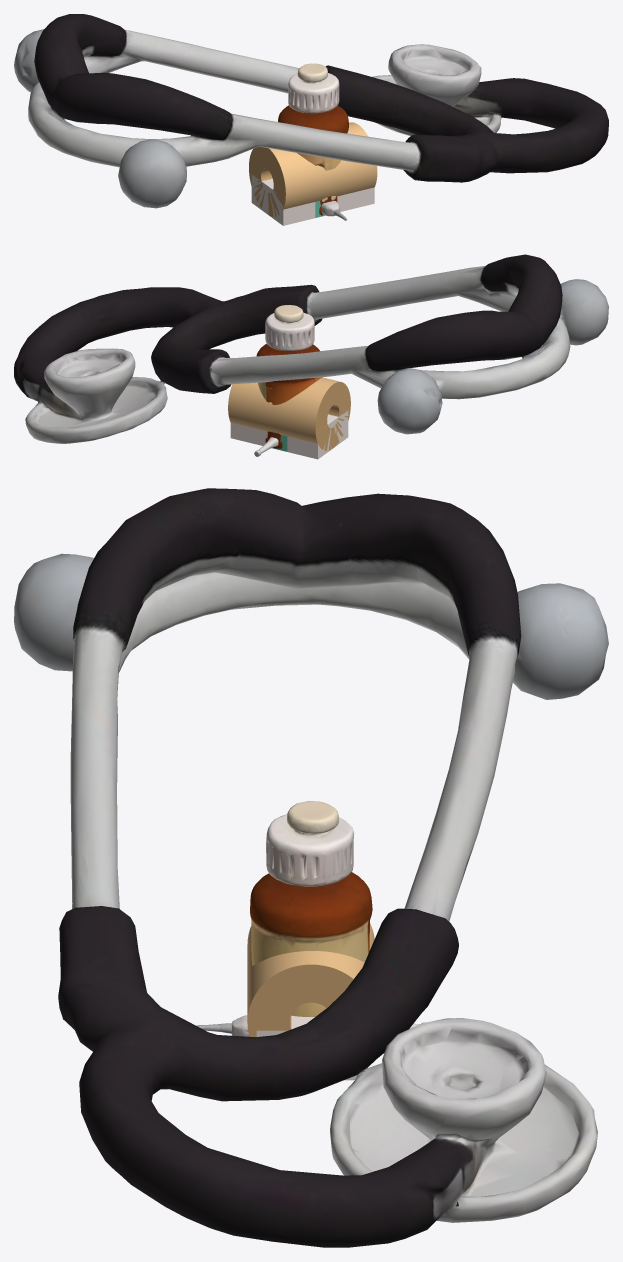
Rendered from pharmacie.glb.
3 renders of one model, top to bottom at view 1: azimuth 30°, elevation 25°; view 2: azimuth 150°, elevation 25°; view 3: azimuth 270°, elevation 25°, orthographic. The views are drawn at different scales.
Parts seen in each view (by area): view 1: stethoscope, bande, sirop, boite-medicament; view 2: stethoscope, bande, sirop, boite-medicament; view 3: stethoscope, sirop, bande.
Boxes of the visible parts, x1,y1,x2,y2 form: stethoscope: (14, 14, 608, 208); bande: (249, 122, 377, 216); sirop: (278, 63, 348, 215); boite-medicament: (251, 174, 374, 225); stethoscope: (14, 254, 608, 443); bande: (228, 377, 350, 450); sirop: (256, 305, 321, 448); boite-medicament: (230, 410, 348, 459); stethoscope: (14, 488, 608, 1247); sirop: (250, 801, 372, 1016); bande: (247, 923, 374, 1036).
Bounding box in the file's own units: 0.5996 × 0.2156 × 0.3261.
2 materials, 2 textured.
